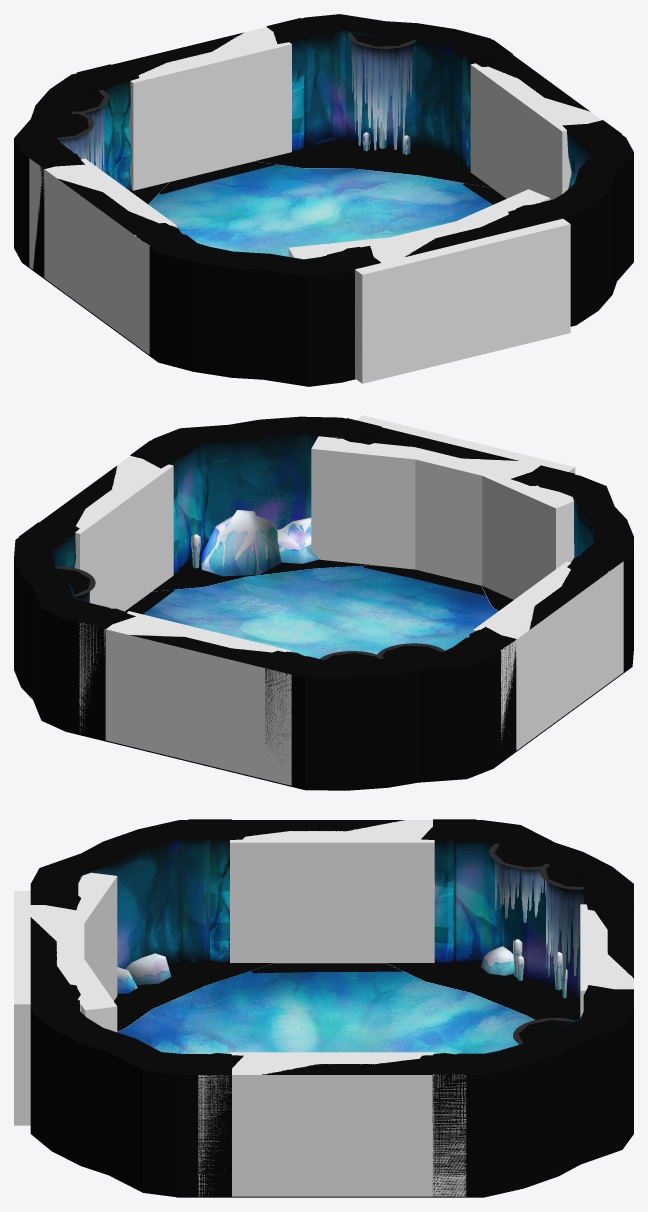
Rendered from Dungeon_072_StartRoom_001_008.fbx.
3 views of the same model, one above another, from view 1: azimuth 30°, elevation 25°; view 2: azimuth 150°, elevation 25°; view 3: azimuth 270°, elevation 25° (orthographic). The views are drawn at different scales.
Parts seen in each view (by area): view 1: Dun_072_StartRoom_002_wall, DoorWay_NavMask (1) (×3), DoorWay_NavMask (3) (×3), Dun_072_StartRoom_002_ground, Dun_072_Door_002 (×4), Dun_072_OB_Icicle, Dun_072_StartRoom_002_shadow, DoorWay_NavMask (2) (×2), DoorWay_NavMask (4), Dun_072_Door_002_shadow, Dun_072_OB_Ice_crystals01; view 2: Dun_072_StartRoom_002_wall, DoorWay_NavMask (3) (×4), DoorWay_NavMask (1) (×4), Dun_072_StartRoom_002_ground, Dun_072_Door_002 (×4), DoorWay_NavMask (4), DoorWay_NavMask (2) (×3), Dun_072_OB_Stone02, Dun_072_StartRoom_002_shadow, Dun_072_OB_Icicle, Dun_072_Door_002_shadow; view 3: Dun_072_StartRoom_002_wall, DoorWay_NavMask (1) (×4), DoorWay_NavMask (3) (×4), Dun_072_StartRoom_002_ground, Dun_072_Door_002 (×4), Dun_072_StartRoom_002_shadow, Dun_072_OB_Icicle, DoorWay_NavMask (2) (×4), DoorWay_NavMask (4), Dun_072_OB_Stone01, Dun_072_Door_002_shadow, Dun_072_OB_Ice_crystals01.
Part boxes in pixels (x1=…): Dun_072_StartRoom_002_wall: x1=14, y1=14, x2=633, y2=386; DoorWay_NavMask (1) (×3): x1=43, y1=27, x2=588, y2=342; DoorWay_NavMask (3) (×3): x1=29, y1=74, x2=601, y2=383; Dun_072_StartRoom_002_ground: x1=134, y1=164, x2=492, y2=345; Dun_072_Door_002 (×4): x1=25, y1=18, x2=621, y2=344; Dun_072_OB_Icicle: x1=56, y1=32, x2=416, y2=171; Dun_072_StartRoom_002_shadow: x1=130, y1=139, x2=491, y2=204; DoorWay_NavMask (2) (×2): x1=227, y1=33, x2=411, y2=259; DoorWay_NavMask (4): x1=446, y1=189, x2=550, y2=231; Dun_072_Door_002_shadow: x1=159, y1=161, x2=276, y2=194; Dun_072_OB_Ice_crystals01: x1=362, y1=109, x2=410, y2=154; Dun_072_StartRoom_002_wall: x1=14, y1=416, x2=633, y2=790; DoorWay_NavMask (3) (×4): x1=79, y1=415, x2=623, y2=785; DoorWay_NavMask (1) (×4): x1=74, y1=443, x2=570, y2=777; Dun_072_StartRoom_002_ground: x1=143, y1=565, x2=609, y2=684; Dun_072_Door_002 (×4): x1=19, y1=418, x2=627, y2=780; DoorWay_NavMask (4): x1=311, y1=436, x2=435, y2=569; DoorWay_NavMask (2) (×3): x1=115, y1=462, x2=574, y2=635; Dun_072_OB_Stone02: x1=201, y1=510, x2=318, y2=576; Dun_072_StartRoom_002_shadow: x1=152, y1=554, x2=513, y2=611; Dun_072_OB_Icicle: x1=56, y1=567, x2=444, y2=661; Dun_072_Door_002_shadow: x1=363, y1=565, x2=485, y2=595; Dun_072_StartRoom_002_wall: x1=30, y1=820, x2=633, y2=1197; DoorWay_NavMask (1) (×4): x1=30, y1=820, x2=627, y2=1196; DoorWay_NavMask (3) (×4): x1=14, y1=820, x2=633, y2=1196; Dun_072_StartRoom_002_ground: x1=117, y1=971, x2=534, y2=1197; Dun_072_Door_002 (×4): x1=30, y1=819, x2=633, y2=1197; Dun_072_StartRoom_002_shadow: x1=114, y1=959, x2=580, y2=1031; Dun_072_OB_Icicle: x1=489, y1=843, x2=583, y2=1044; DoorWay_NavMask (2) (×4): x1=47, y1=822, x2=627, y2=1072; DoorWay_NavMask (4): x1=56, y1=953, x2=117, y2=1032; Dun_072_OB_Stone01: x1=117, y1=946, x2=514, y2=993; Dun_072_Door_002_shadow: x1=250, y1=963, x2=403, y2=973; Dun_072_OB_Ice_crystals01: x1=513, y1=939, x2=567, y2=998.
Size of what is drawn, in the model's own units: 9 by 2.08 by 9.25.
